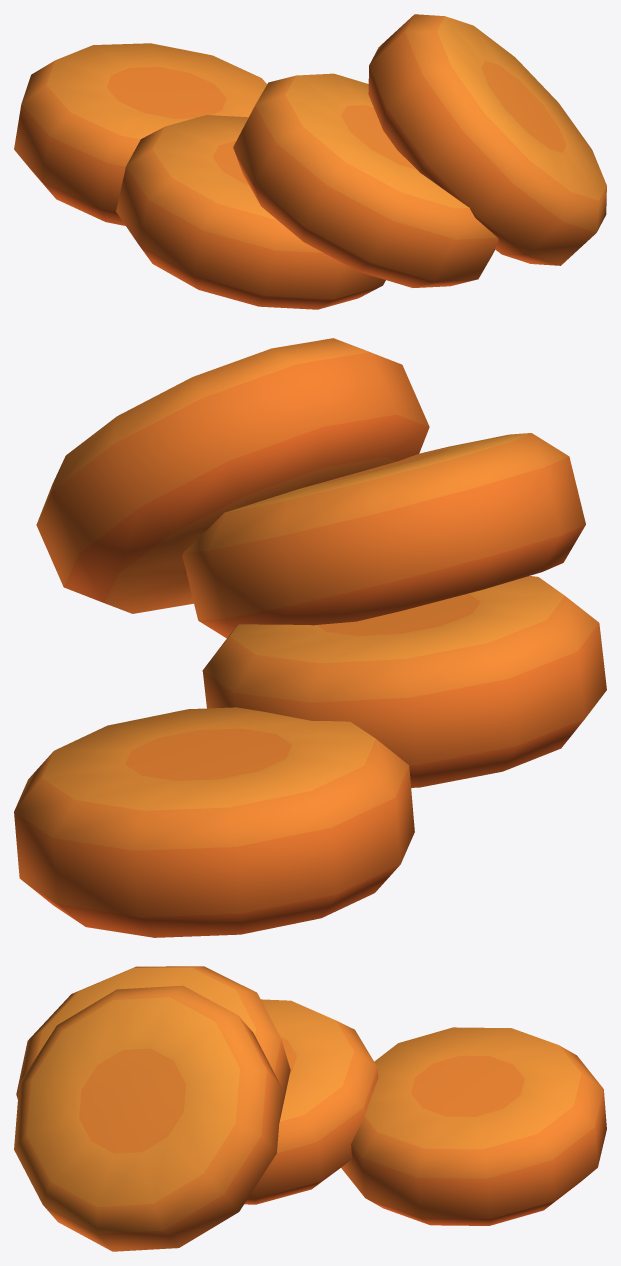
The model's file is ing_carrot_pieces.glb.
The picture shows the model from 3 angles, top to bottom: view 1: azimuth 30°, elevation 25°; view 2: azimuth 150°, elevation 25°; view 3: azimuth 270°, elevation 25°; orthographic projection. The views are drawn at different scales.
Visible parts, largest first — view 1: food_ingredient_carrot_pieces_Cylinder.1025; view 2: food_ingredient_carrot_pieces_Cylinder.1025; view 3: food_ingredient_carrot_pieces_Cylinder.1025.
Part boxes in pixels (x1=…): food_ingredient_carrot_pieces_Cylinder.1025: x1=14, y1=14, x2=606, y2=309; food_ingredient_carrot_pieces_Cylinder.1025: x1=14, y1=338, x2=606, y2=937; food_ingredient_carrot_pieces_Cylinder.1025: x1=14, y1=966, x2=606, y2=1251.
Size of the model in its own units: 0.543 by 0.3226 by 0.7191.
Materials: 1 (1 with a texture image).
